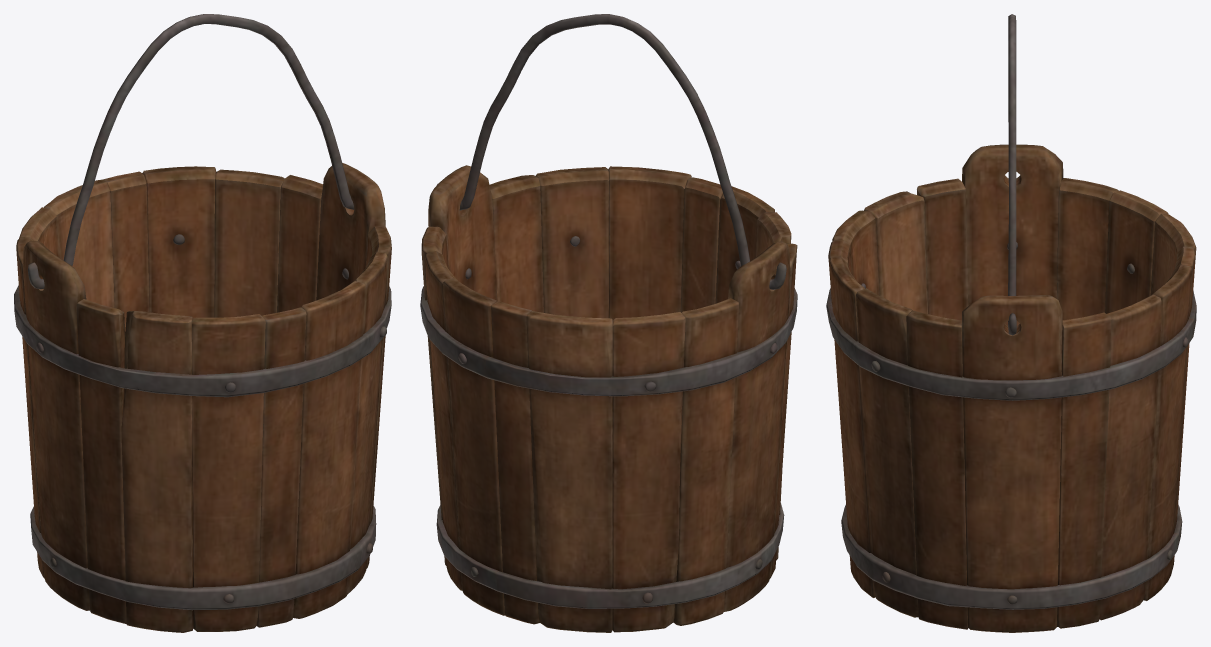
The model's file is bucket.glb.
The picture shows the model from 3 angles, left to right: view 1: azimuth 30°, elevation 25°; view 2: azimuth 150°, elevation 25°; view 3: azimuth 270°, elevation 25°; orthographic projection.
Parts seen in each view (by area): view 1: wooden_bucket_01, wooden_bucket_01_handle; view 2: wooden_bucket_01, wooden_bucket_01_handle; view 3: wooden_bucket_01, wooden_bucket_01_handle.
Boxes of the visible parts, x1,y1,x2,y2 form: wooden_bucket_01: [14, 163, 391, 632]; wooden_bucket_01_handle: [27, 14, 354, 289]; wooden_bucket_01: [420, 165, 797, 632]; wooden_bucket_01_handle: [437, 14, 786, 289]; wooden_bucket_01: [826, 144, 1196, 632]; wooden_bucket_01_handle: [1008, 14, 1016, 335].
Bounding box in the file's own units: 0.367 × 0.5499 × 0.3422.
1 material, 1 textured.
